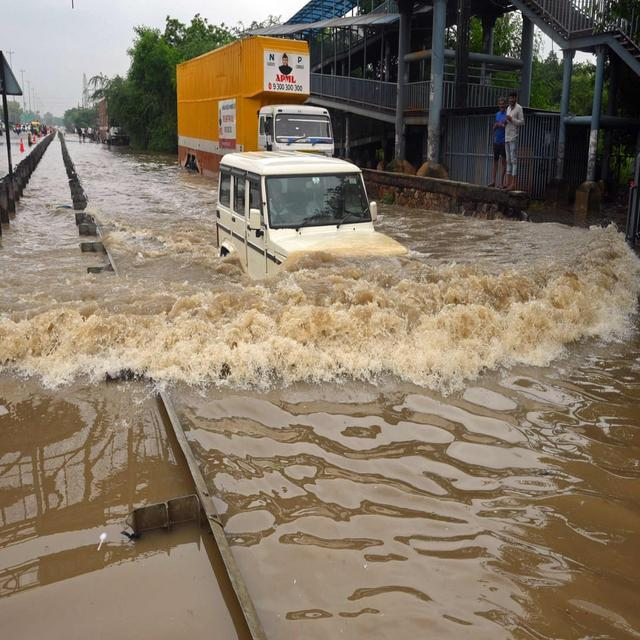Car-RiskLevel3: (205, 148, 416, 287), (164, 34, 341, 169)
Person-RiskLevel1: (484, 79, 533, 191)
